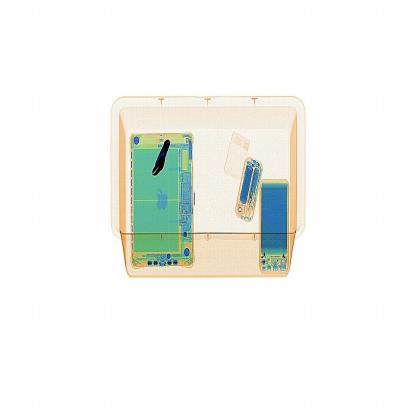knife: (153, 138, 171, 179)
